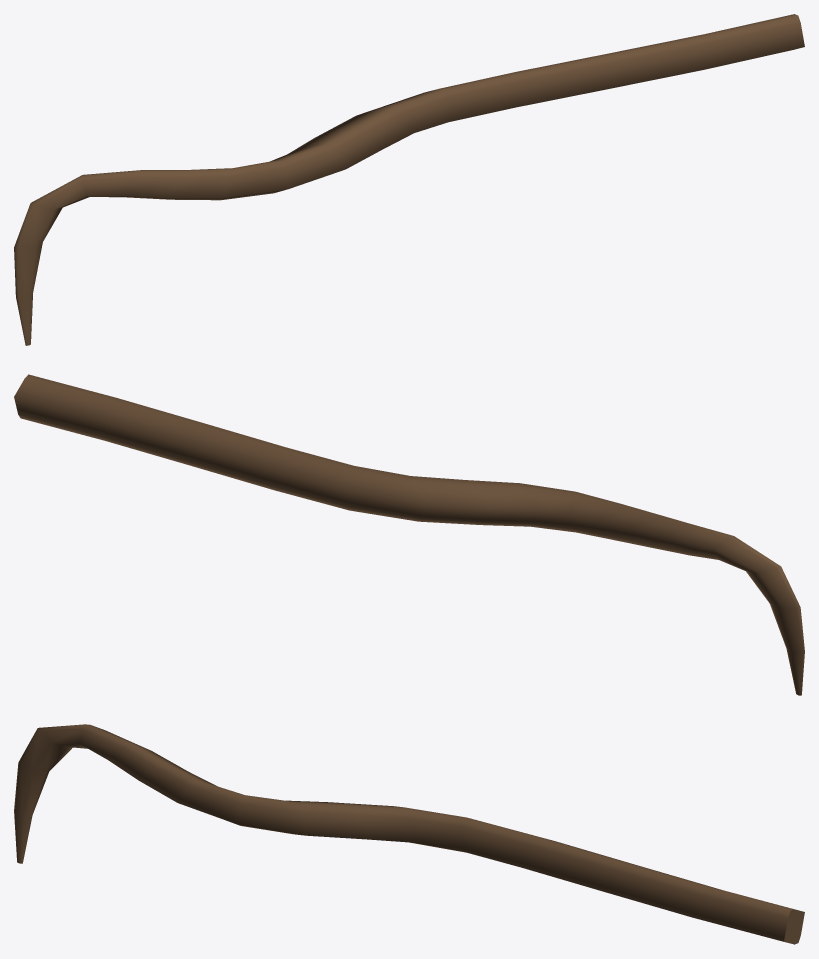
Rendered from SM_Skyisland_Root_Var4.fbx.
3 views of the same model, one above another, from view 1: azimuth 30°, elevation 25°; view 2: azimuth 150°, elevation 25°; view 3: azimuth 330°, elevation 25° (orthographic).
Parts seen in each view (by area): view 1: BezierCurve.066; view 2: BezierCurve.066; view 3: BezierCurve.066.
Part boxes in pixels (<box>): BezierCurve.066: <box>14,14,804,345</box>; BezierCurve.066: <box>14,374,804,695</box>; BezierCurve.066: <box>14,724,804,944</box>.
Size of the model in its own units: 801 by 147 by 91.36.
